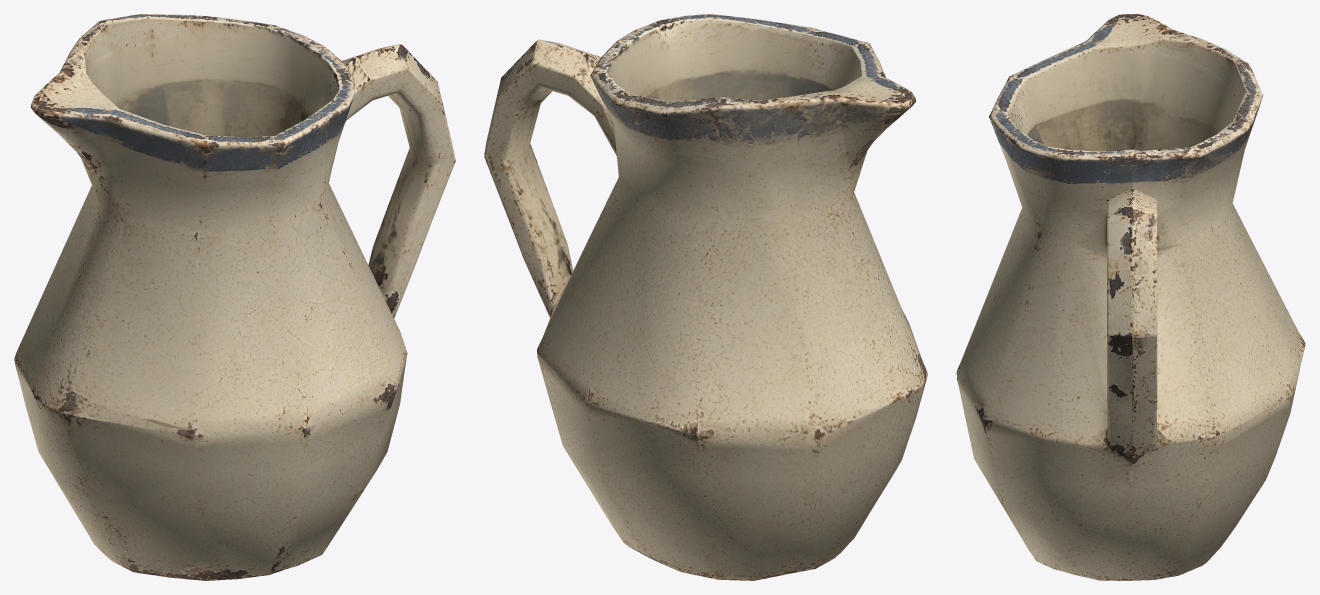
Rendered from faceted+pitcher+3d+model.glb.
3 views of the same model, side by side, from view 1: azimuth 30°, elevation 25°; view 2: azimuth 150°, elevation 25°; view 3: azimuth 270°, elevation 25° (orthographic). The views are drawn at different scales.
Parts seen in each view (by area): view 1: tripo_node_5eada88b-8b1c-4173-94aa-3276515266f7; view 2: tripo_node_5eada88b-8b1c-4173-94aa-3276515266f7; view 3: tripo_node_5eada88b-8b1c-4173-94aa-3276515266f7.
Boxes of the visible parts, bbox=[...] form: tripo_node_5eada88b-8b1c-4173-94aa-3276515266f7: bbox=[14, 14, 455, 580]; tripo_node_5eada88b-8b1c-4173-94aa-3276515266f7: bbox=[484, 14, 927, 580]; tripo_node_5eada88b-8b1c-4173-94aa-3276515266f7: bbox=[956, 14, 1305, 580].
Bounding box in the file's own units: 0.8989 × 0.9995 × 0.6929.
1 material, 1 textured.
